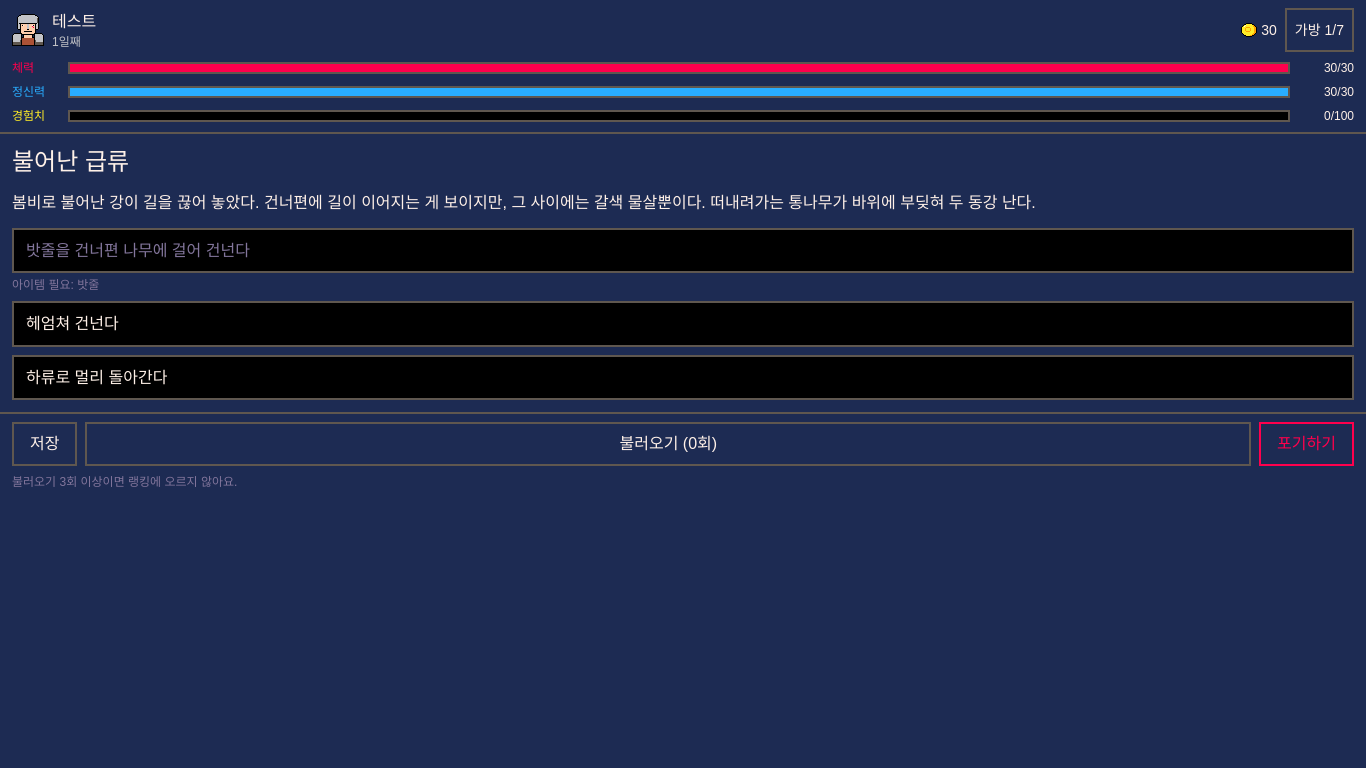
Scenario: InventorySheet › 장착 equips the item through the store
Click the button "가방 1/7": (1319, 30) left=1285, top=8, right=1354, bottom=52
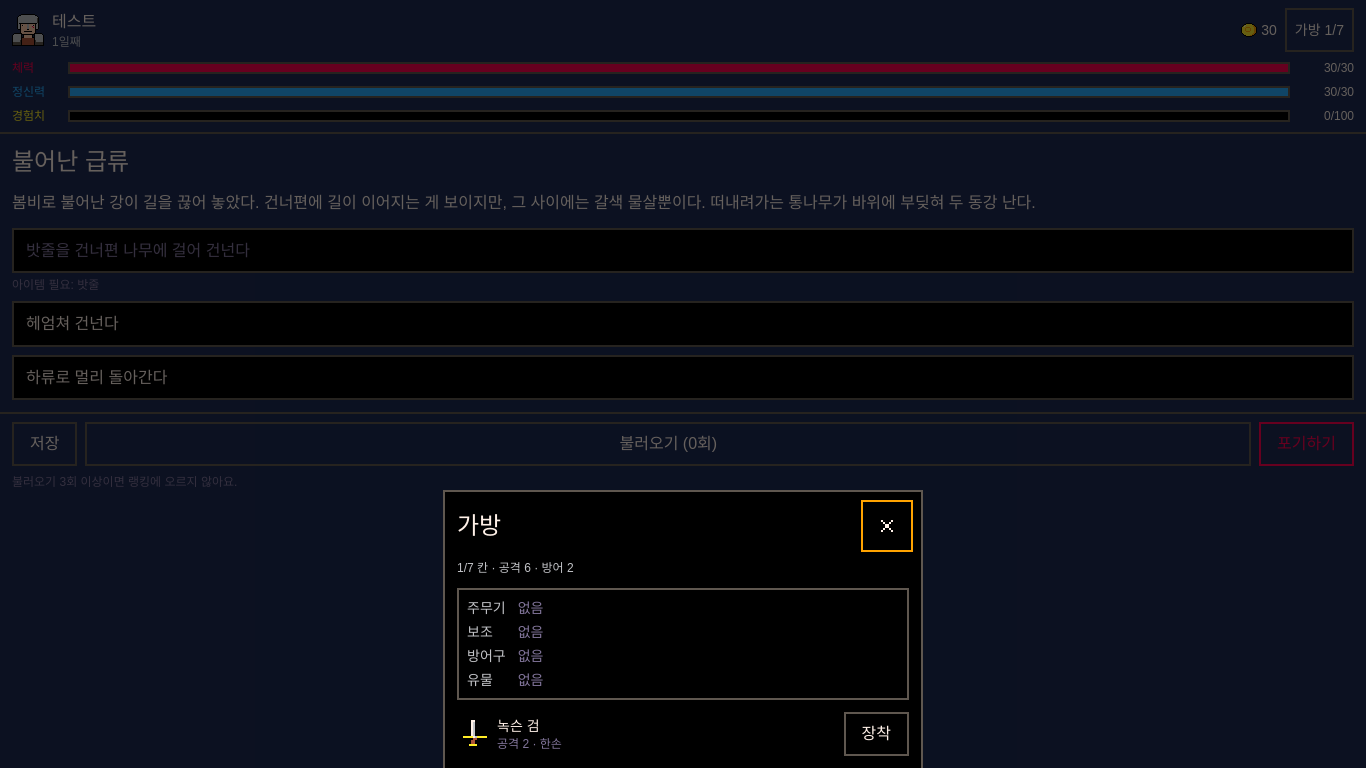
Click the button with aria-label "녹슨 검 장착": (876, 734) left=844, top=712, right=909, bottom=756
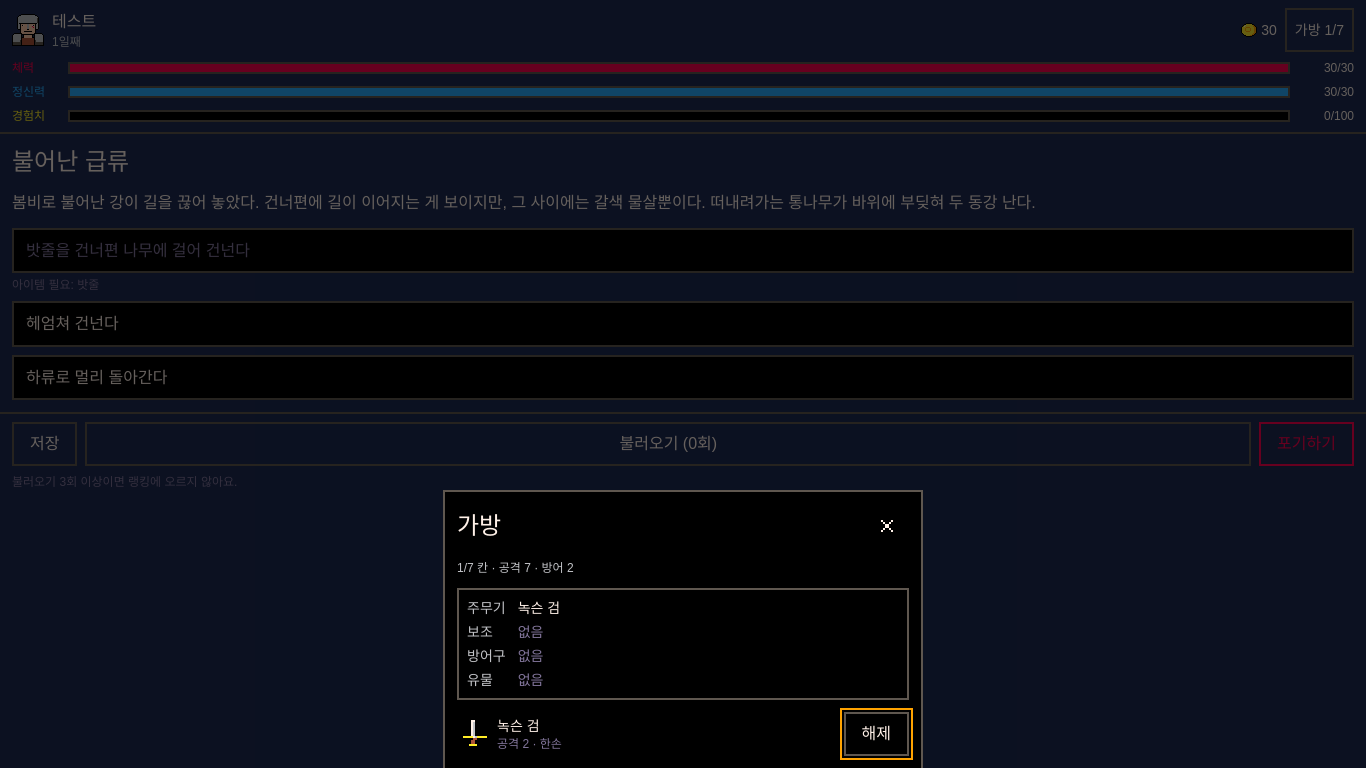
Result: the button with aria-label "녹슨 검 해제" is shown at left=844, top=712, right=909, bottom=756
